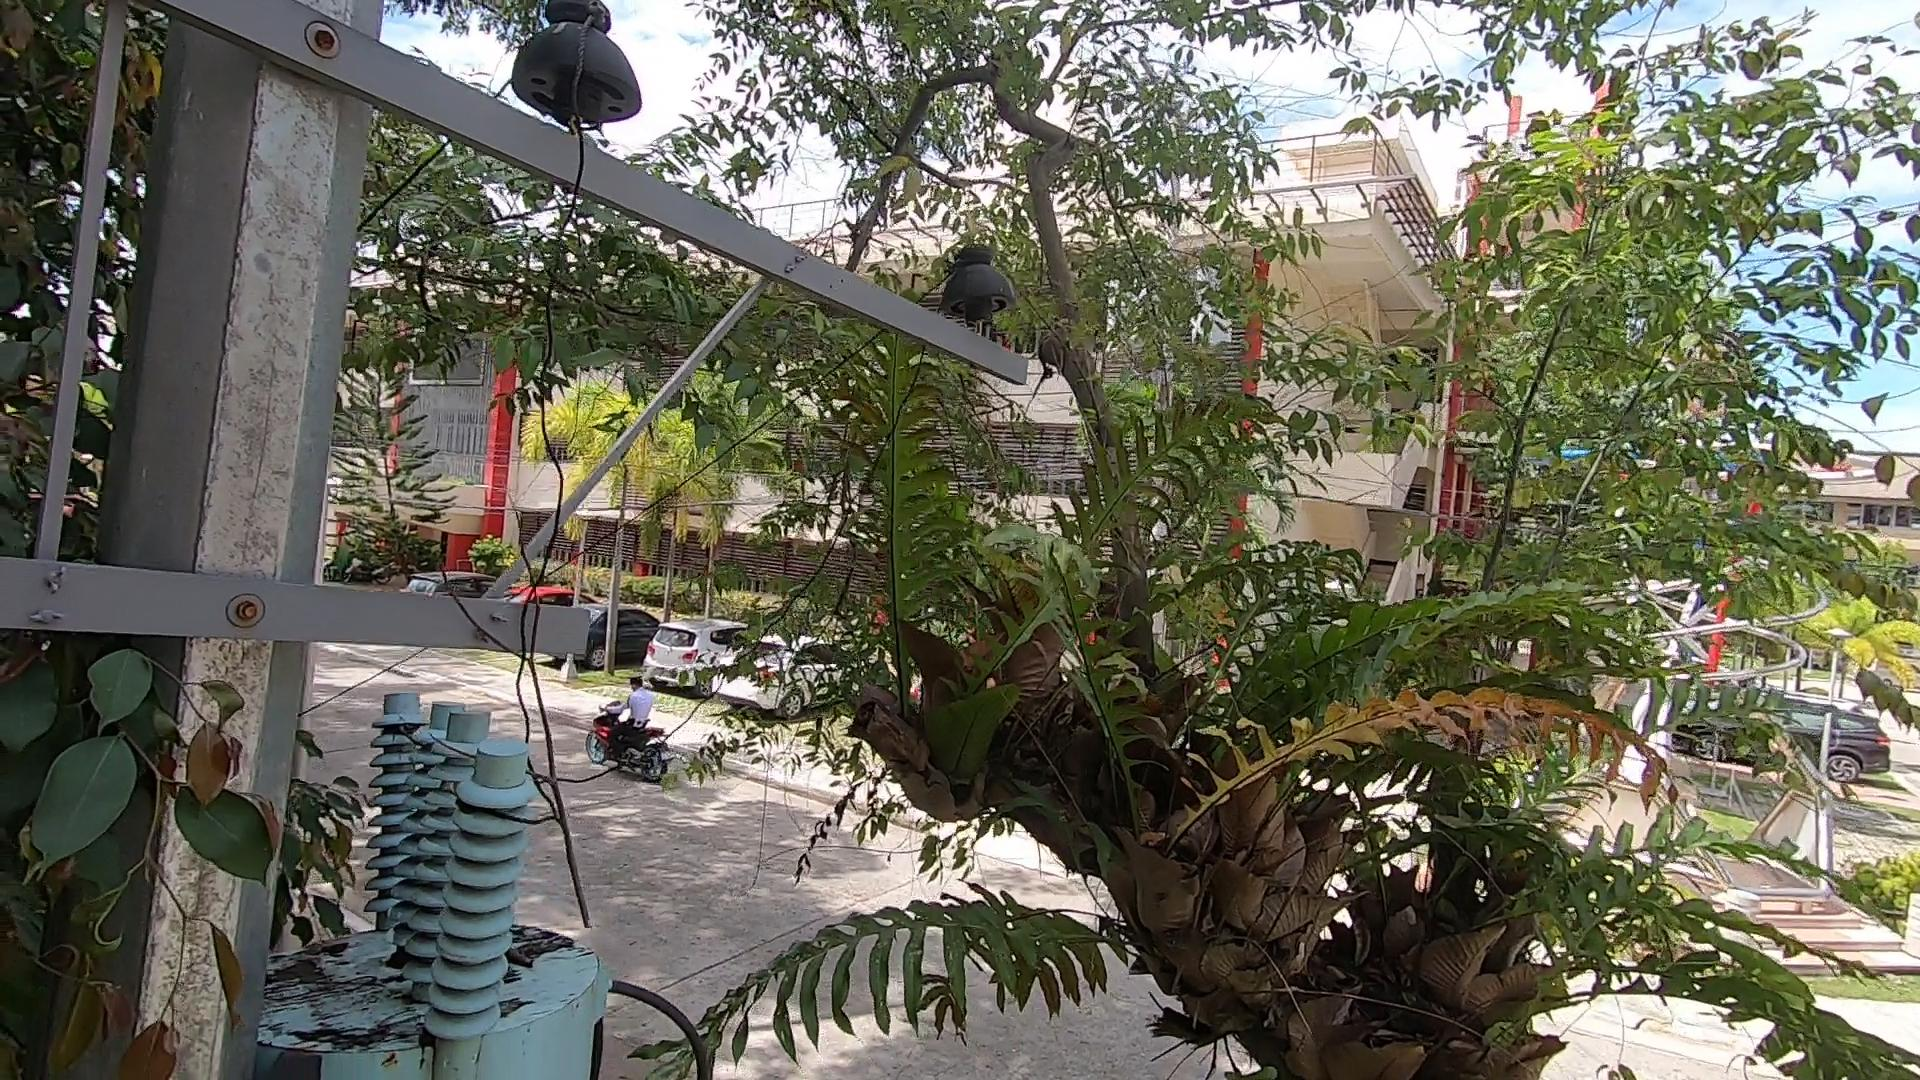leaf: (510, 934, 554, 980)
tree branch: (435, 468, 629, 932)
